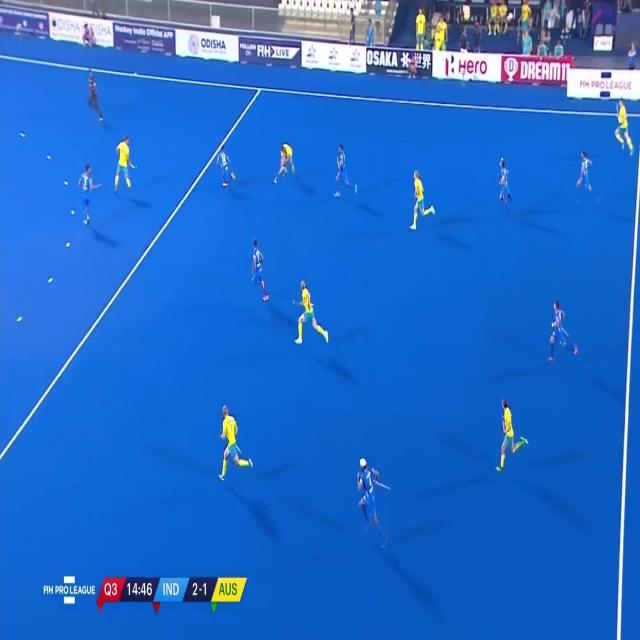ball: (272, 176, 280, 190)
